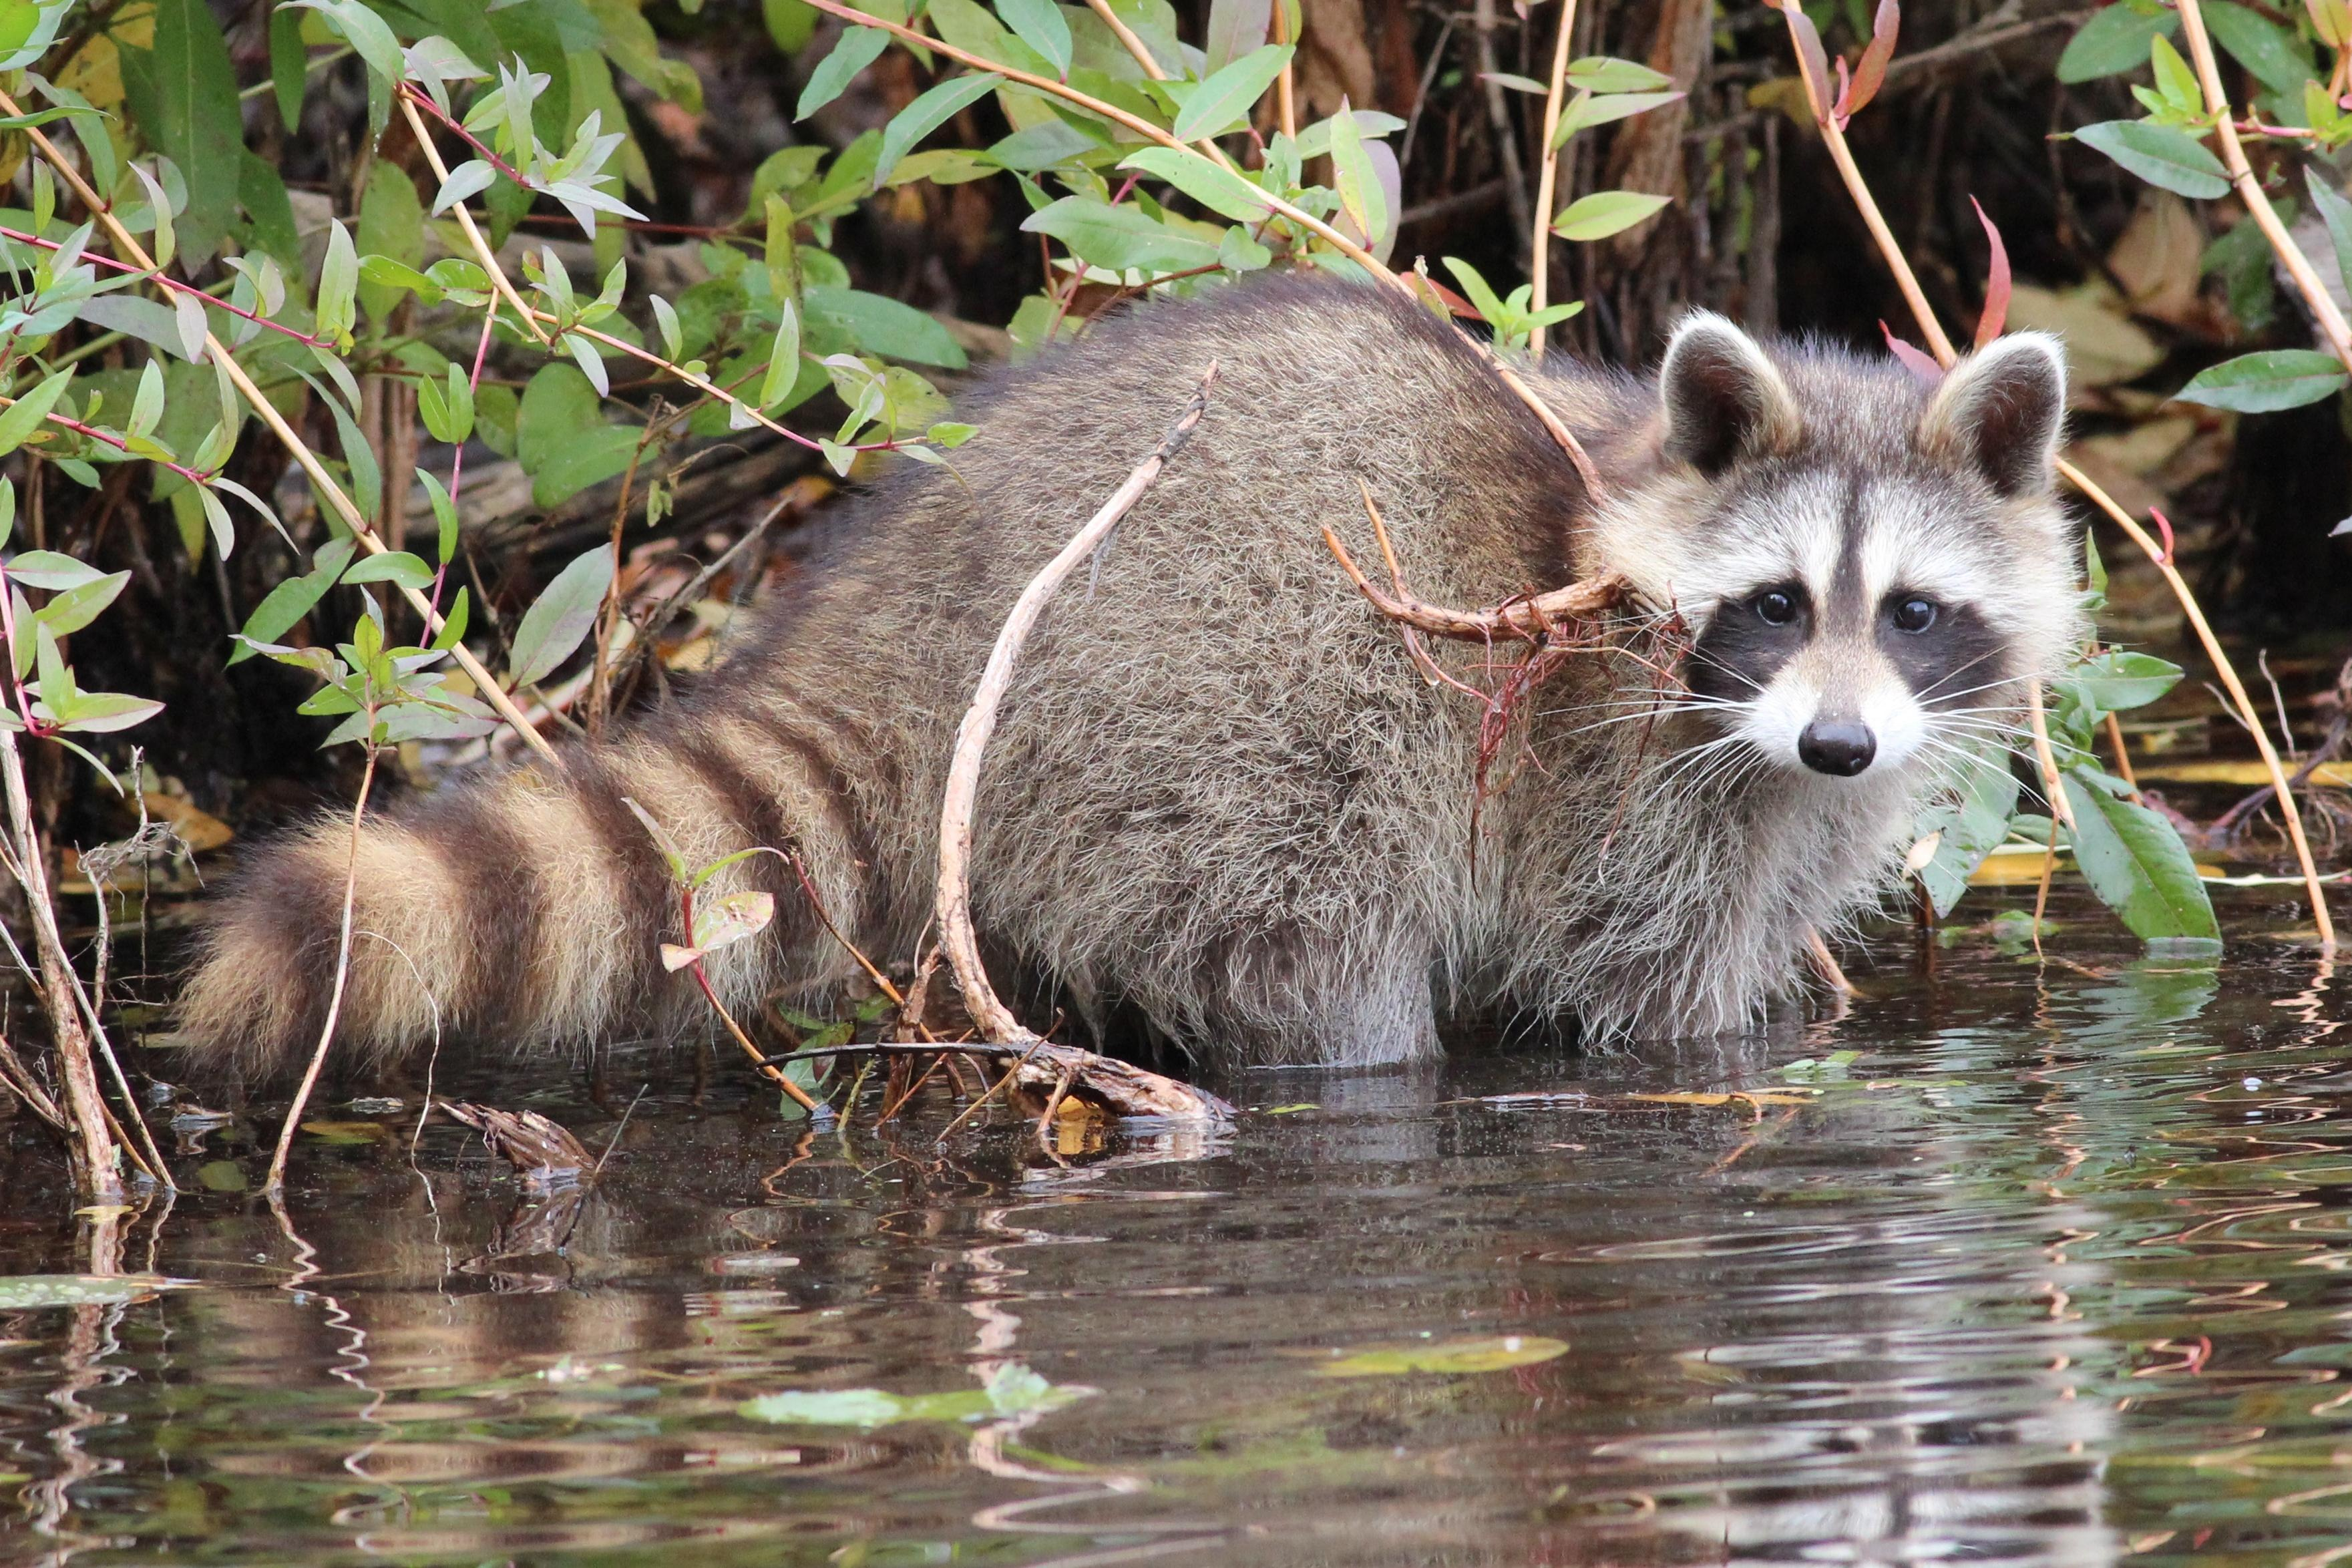raccoon: (187, 287, 2081, 1132)
